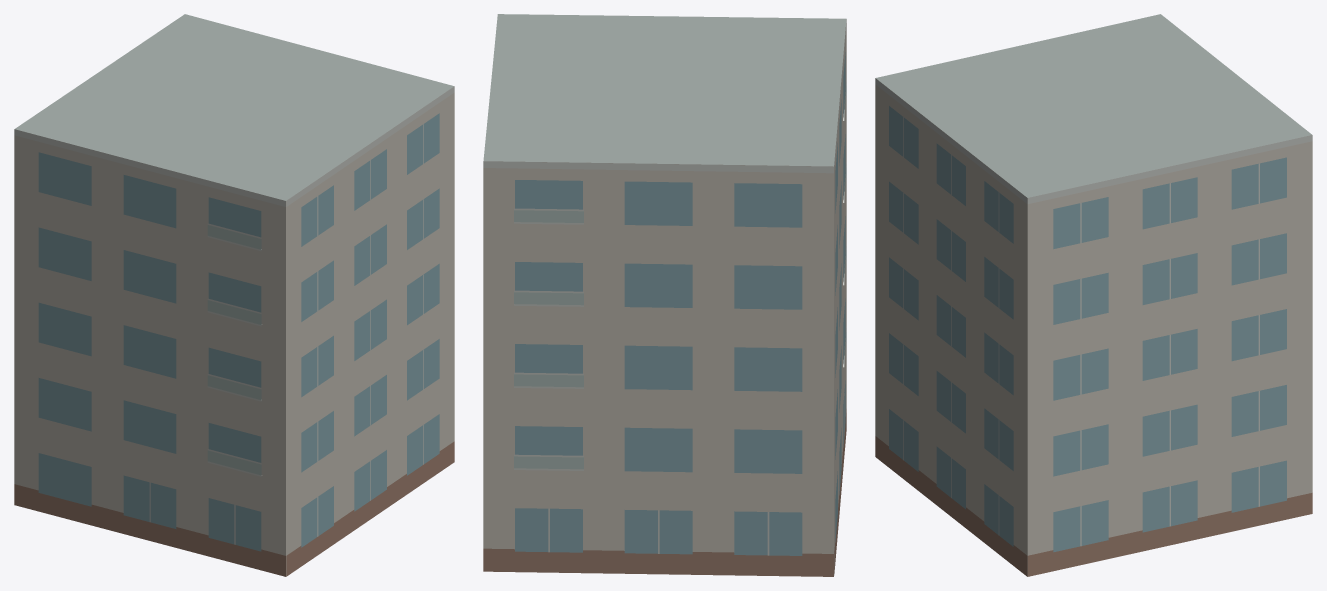
Rendered from survey-upis-33028345.glb.
3 views of the same model, side by side, from view 1: azimuth 30°, elevation 25°; view 2: azimuth 150°, elevation 25°; view 3: azimuth 270°, elevation 25° (orthographic). The views are drawn at different scales.
Visible parts, largest first — view 1: survey-upis-33028345.tmp; view 2: survey-upis-33028345.tmp; view 3: survey-upis-33028345.tmp.
Boxes of the visible parts, left/top/right/bottom form: survey-upis-33028345.tmp: left=14, top=14, right=454, bottom=576; survey-upis-33028345.tmp: left=483, top=14, right=846, bottom=576; survey-upis-33028345.tmp: left=875, top=14, right=1312, bottom=576.
Bounding box in the file's own units: 15.32 × 14.7 × 15.38.
